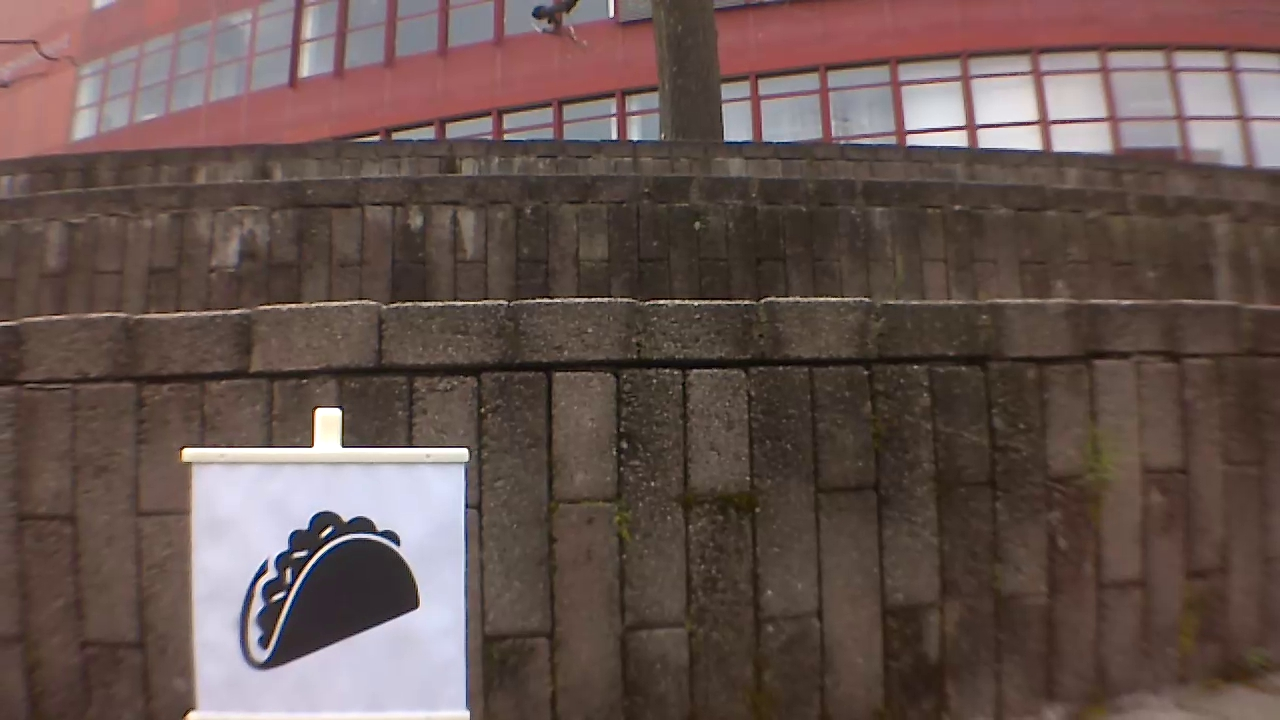taco: (232, 503, 431, 679)
